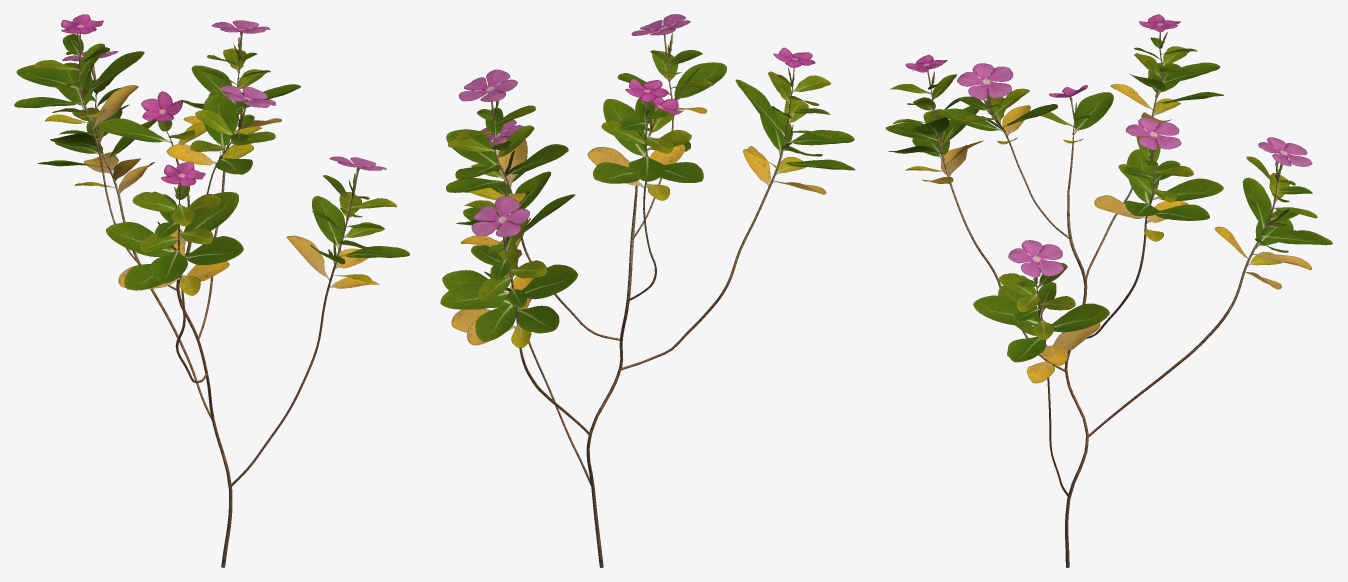
3 views of the same model, side by side, from view 1: azimuth 30°, elevation 25°; view 2: azimuth 150°, elevation 25°; view 3: azimuth 270°, elevation 25° (orthographic). The views are drawn at different scales.
Parts seen in each view (by area): view 1: periwinkle_plant_01_LOD0; view 2: periwinkle_plant_01_LOD0; view 3: periwinkle_plant_01_LOD0.
Boxes of the visible parts, x1=… form: periwinkle_plant_01_LOD0: x1=14, y1=14, x2=410, y2=567; periwinkle_plant_01_LOD0: x1=440, y1=14, x2=855, y2=567; periwinkle_plant_01_LOD0: x1=885, y1=14, x2=1332, y2=567.
Size of the model in its own units: 0.2608 by 0.3972 by 0.3207.
1 material, 1 textured.
